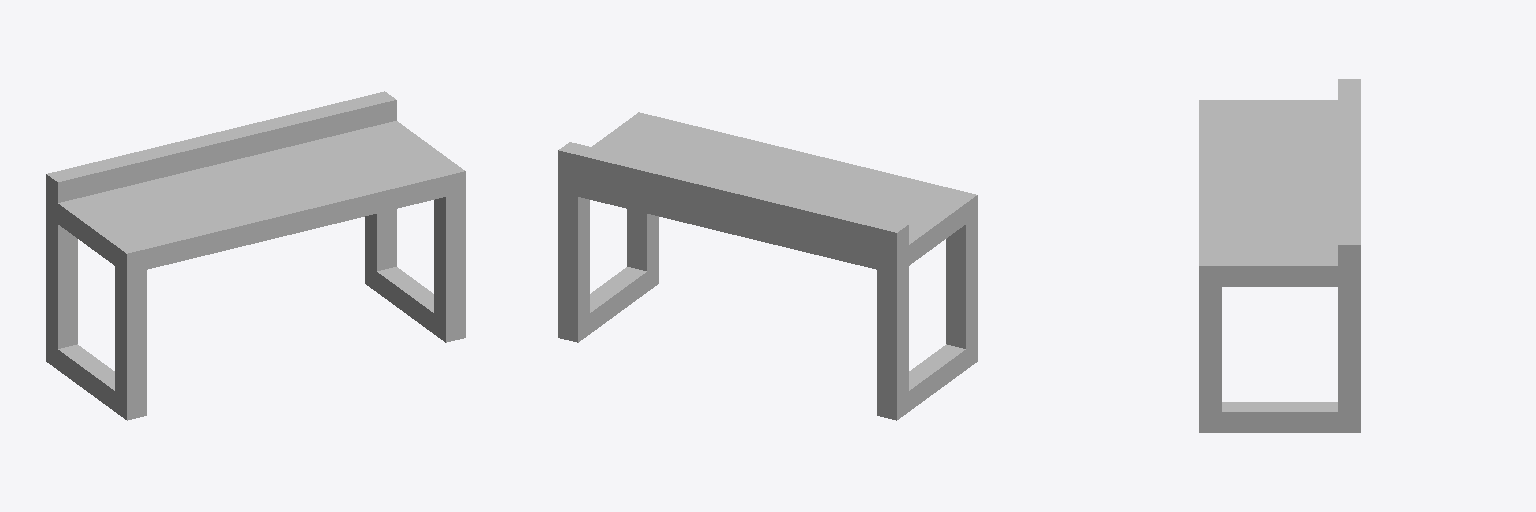
Rendered from office table.obj.
The picture shows the model from 3 angles: view 1: azimuth 30°, elevation 25°; view 2: azimuth 150°, elevation 25°; view 3: azimuth 270°, elevation 25°; orthographic projection.
Visible parts, largest first — view 1: object 1; view 2: object 1; view 3: object 1.
Boxes of the visible parts, box(x1,y1,x2,y2) form: object 1: box(46, 91, 465, 420); object 1: box(558, 112, 977, 420); object 1: box(1199, 79, 1360, 432).
Size of the model in its own units: 1.7 by 0.9 by 0.7.